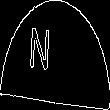N_S: (43, 28, 67, 82)
